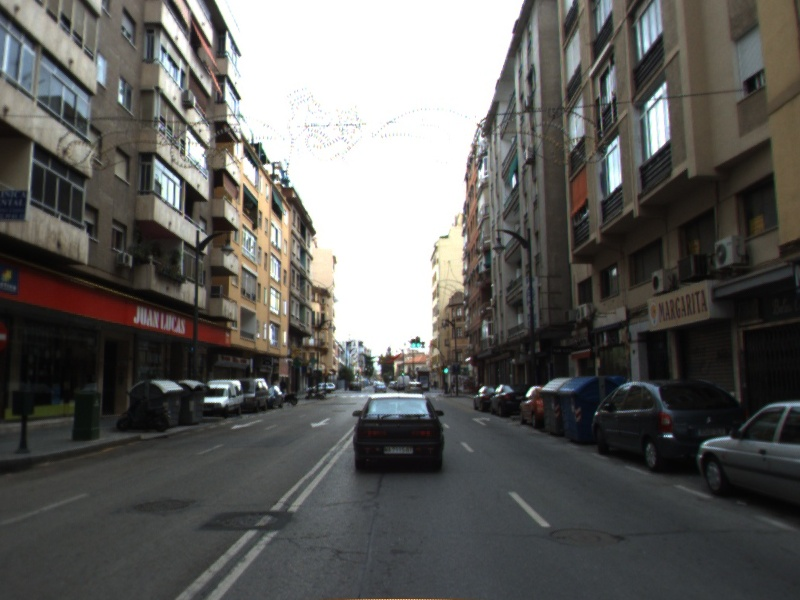RIGHT: (471, 415, 492, 427)
